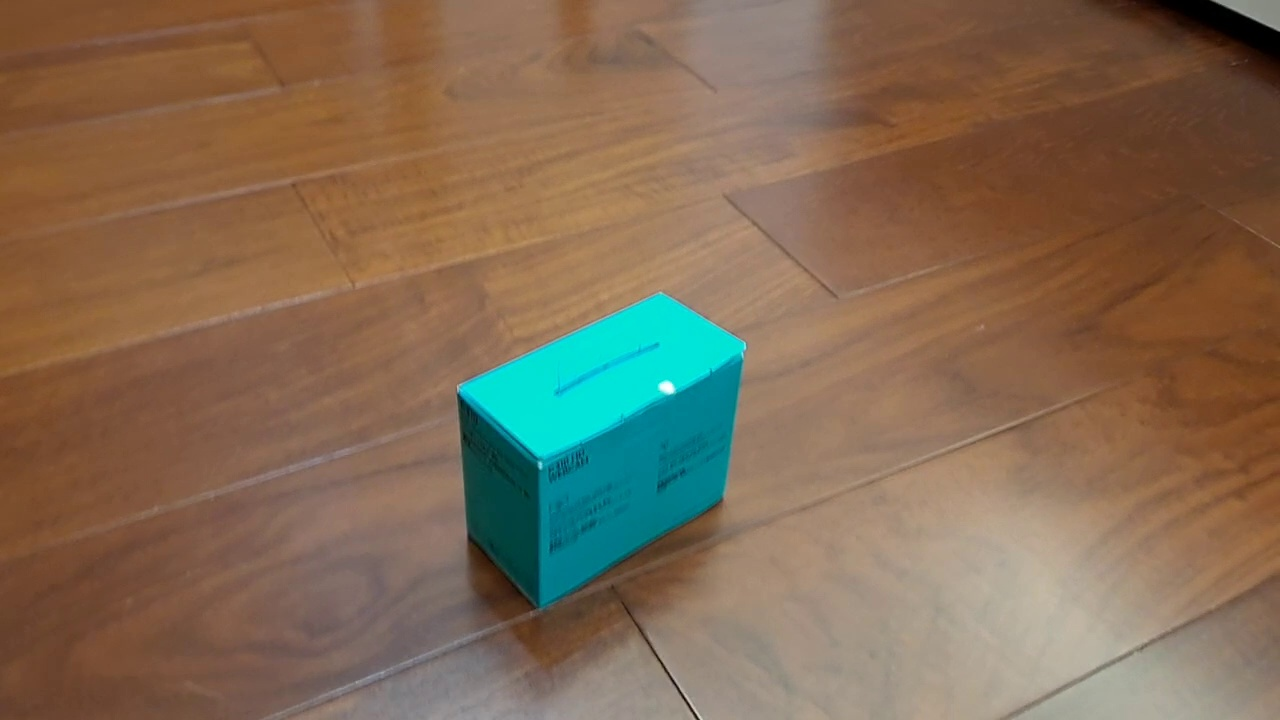webcam: (455, 287, 748, 612)
